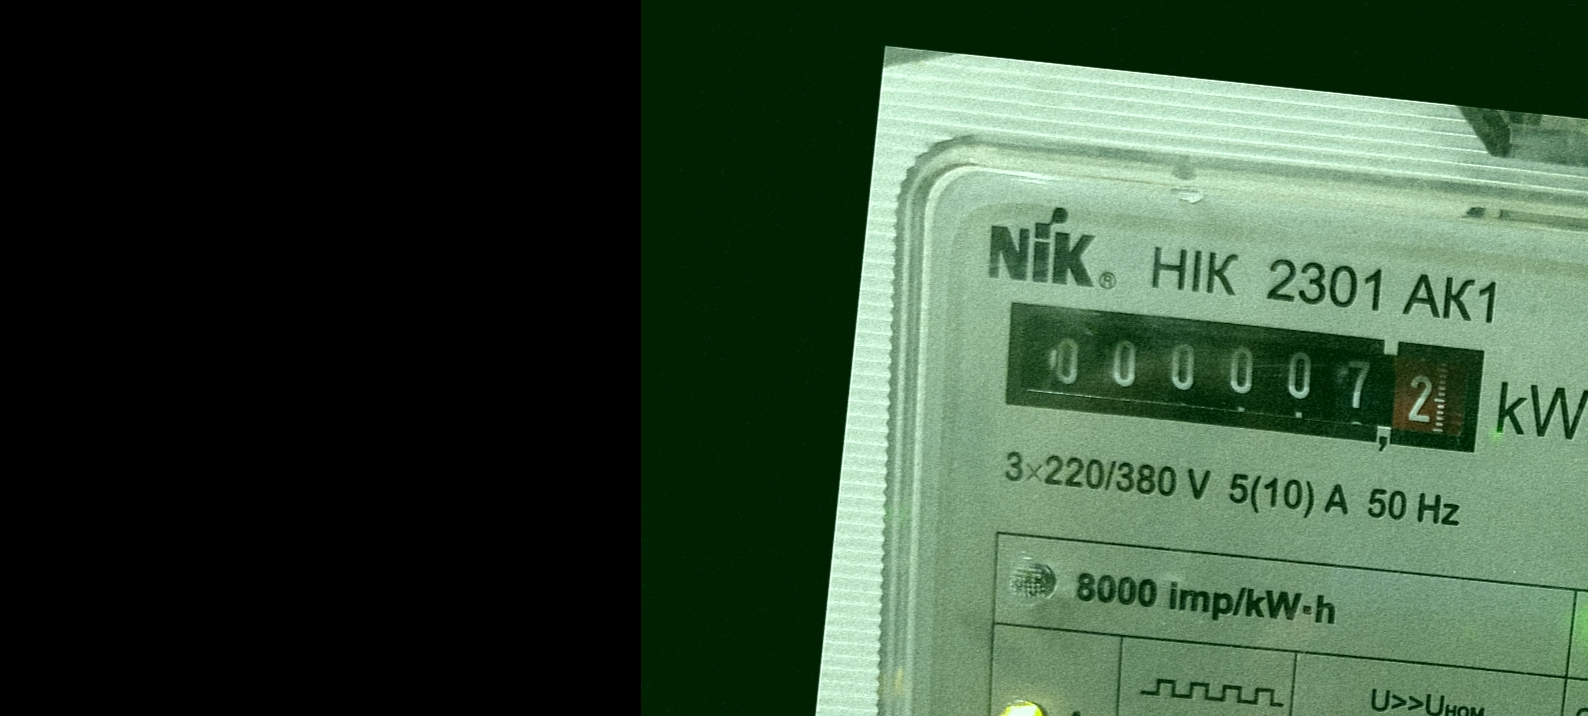0: (1106, 333, 1146, 388), (1282, 346, 1320, 402), (1167, 337, 1203, 392), (1225, 340, 1261, 396), (1050, 332, 1087, 386)
2: (1404, 371, 1440, 424)
7: (1340, 354, 1375, 411)
screen: (983, 279, 1508, 473)
